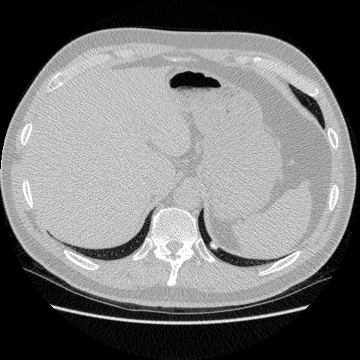nodule: (209, 241, 217, 249)
